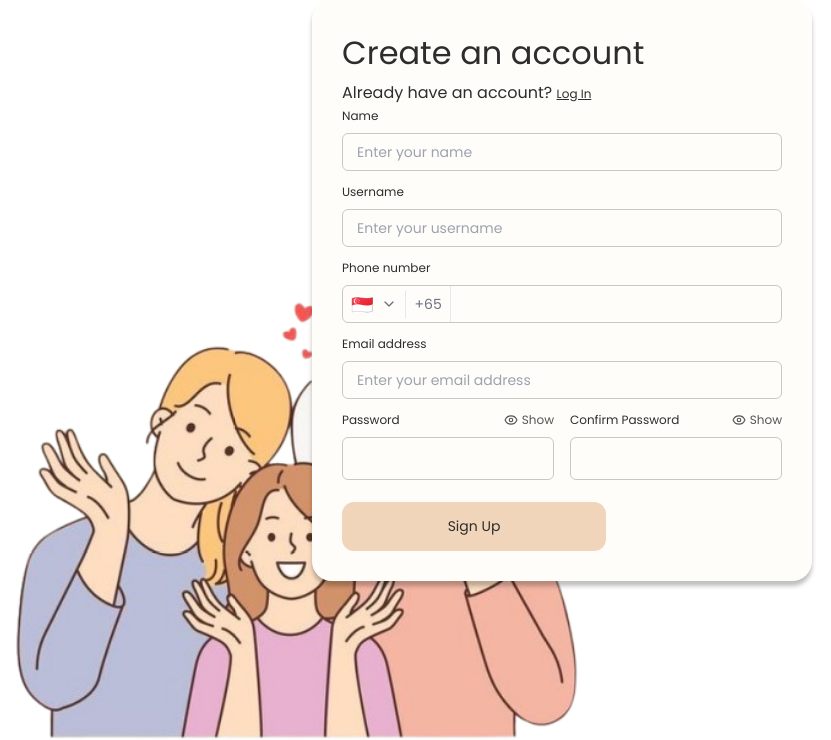
SignUpCard component › allows country selection
Step 1. Click the button "🇸🇬" → (375, 304), box [343,290,406,318]
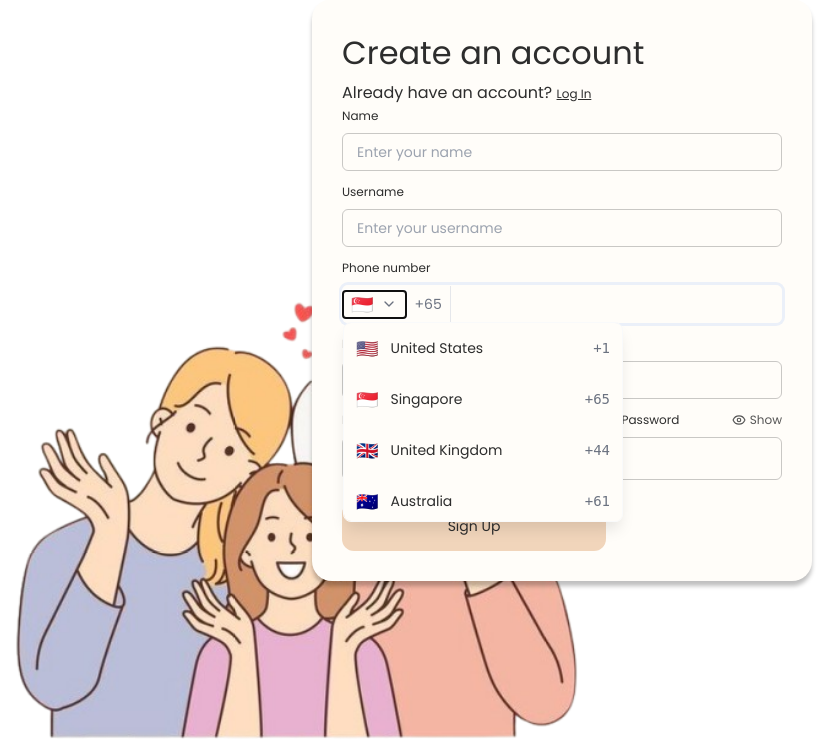
Expected: the text "United States" is shown
Expected: the text "Singapore" is shown, [390,388,462,408]
Step 2. Click the text "United States" → (437, 348), box [390,338,483,358]
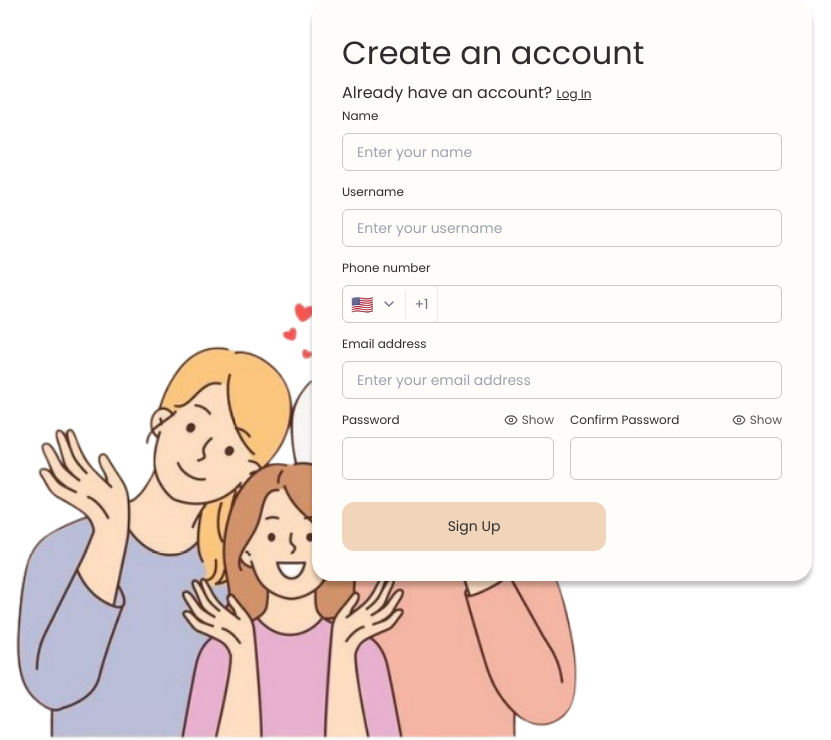
Expected: the text "+1" is shown, [406,286,438,322]
